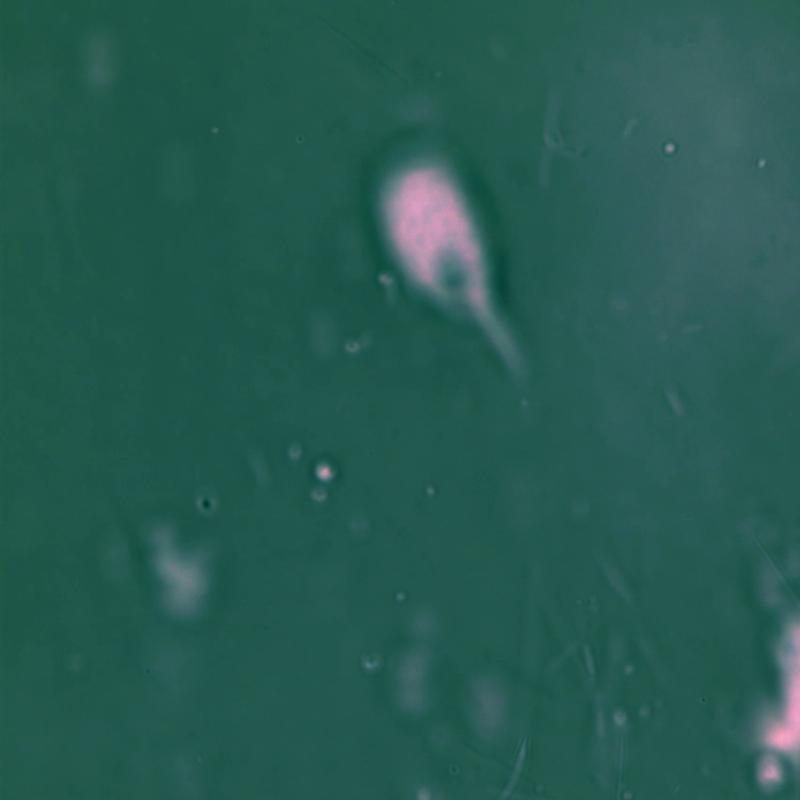depth:100: (341, 99, 557, 398)
